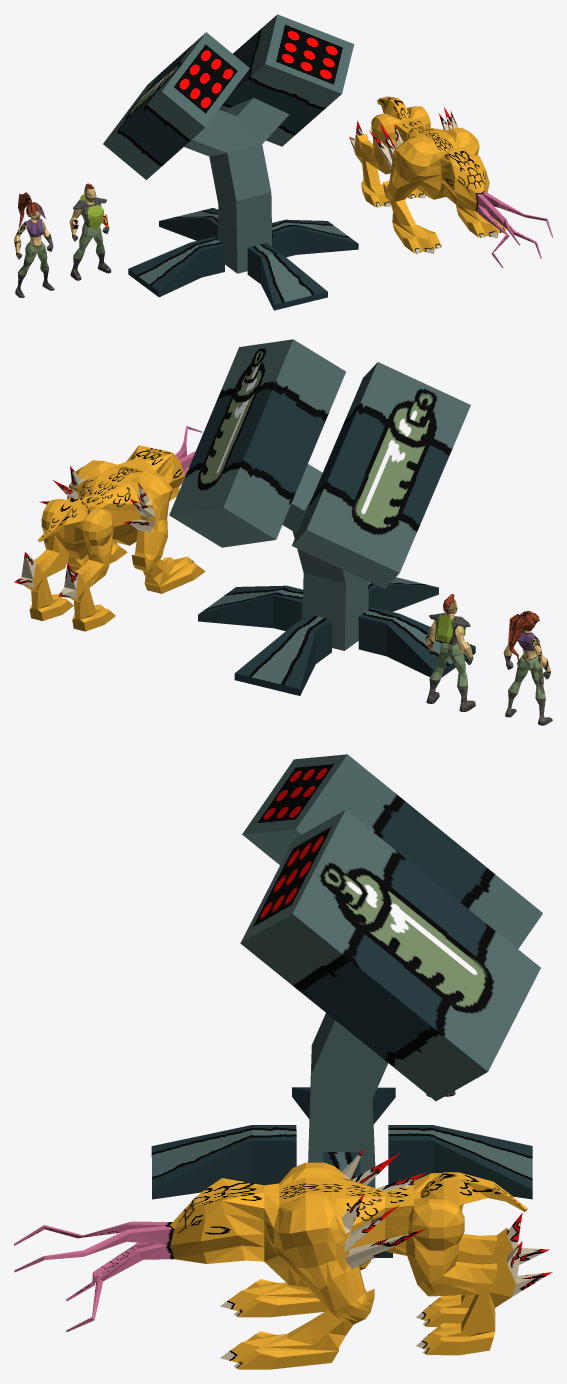
Rendered from Everybody.dae.
The picture shows the model from 3 angles, top to bottom: view 1: azimuth 30°, elevation 25°; view 2: azimuth 150°, elevation 25°; view 3: azimuth 270°, elevation 25°; orthographic projection. The views are drawn at different scales.
Visible parts, largest first — view 1: Cube_042, Cube_035, Sphere, Cylinder, Cube; view 2: Cube_042, Cube_035, Sphere, Cylinder, Cube; view 3: Cube_042, Cube_035.
Part boxes in pixels (x1=…): Cube_042: x1=103, y1=14, x2=358, y2=310; Cube_035: x1=349, y1=96, x2=552, y2=267; Sphere: x1=14, y1=192, x2=54, y2=297; Cylinder: x1=69, y1=183, x2=111, y2=280; Cube: x1=73, y1=194, x2=106, y2=229; Cube_042: x1=169, y1=339, x2=475, y2=695; Cube_035: x1=14, y1=426, x2=205, y2=631; Sphere: x1=503, y1=611, x2=552, y2=725; Cylinder: x1=425, y1=594, x2=475, y2=711; Cube: x1=429, y1=613, x2=470, y2=642; Cube_042: x1=151, y1=754, x2=542, y2=1257; Cube_035: x1=14, y1=1148, x2=552, y2=1369.
Size of the model in its own units: 24.75 by 16.05 by 13.2.
Materials: 5 (5 with a texture image).
